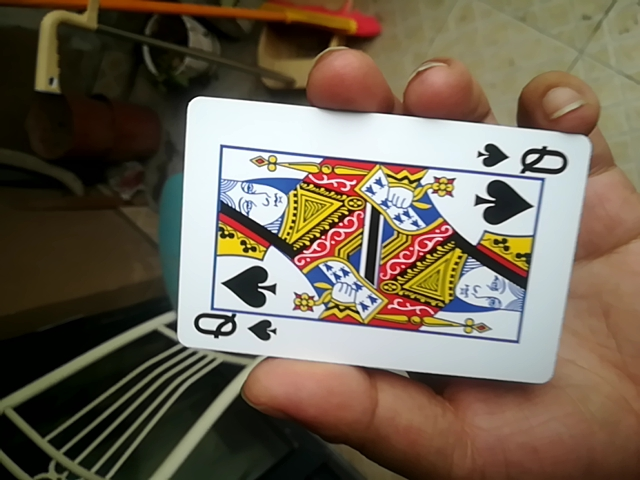ht q: (170, 94, 594, 388)
